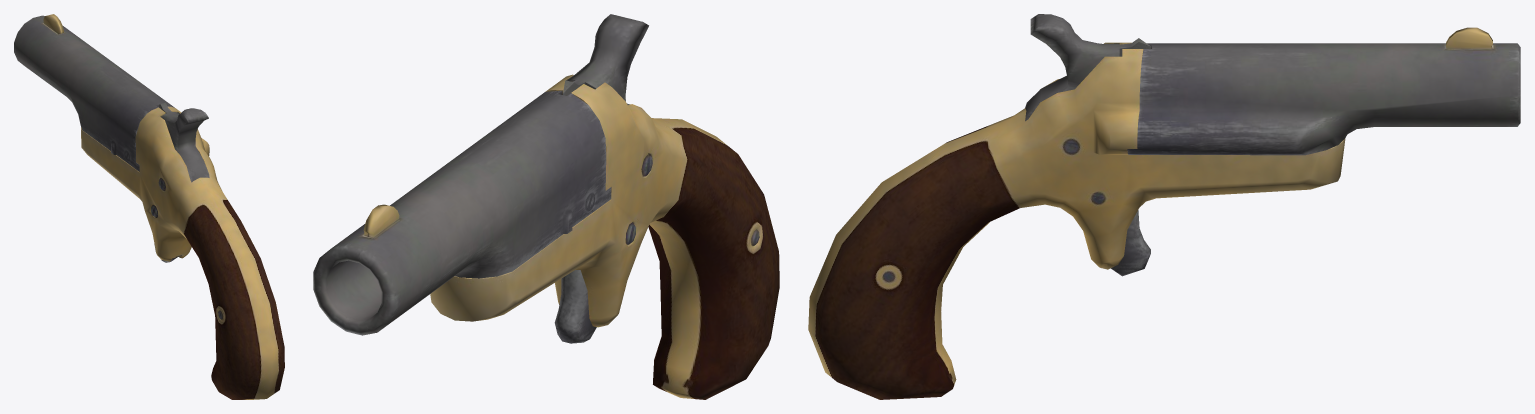
File: derringer.glb
3 views of the same model, side by side, from view 1: azimuth 30°, elevation 25°; view 2: azimuth 150°, elevation 25°; view 3: azimuth 270°, elevation 25° (orthographic). The views are drawn at different scales.
Parts seen in each view (by area): view 1: Derringer; view 2: Derringer; view 3: Derringer.
Boxes of the visible parts, x1,y1,x2,y2 form: Derringer: [14, 14, 284, 399]; Derringer: [313, 14, 779, 399]; Derringer: [808, 14, 1520, 399].
Bounding box in the file's own units: 0.0189 × 0.07 × 0.1211.
1 material, 1 textured.
